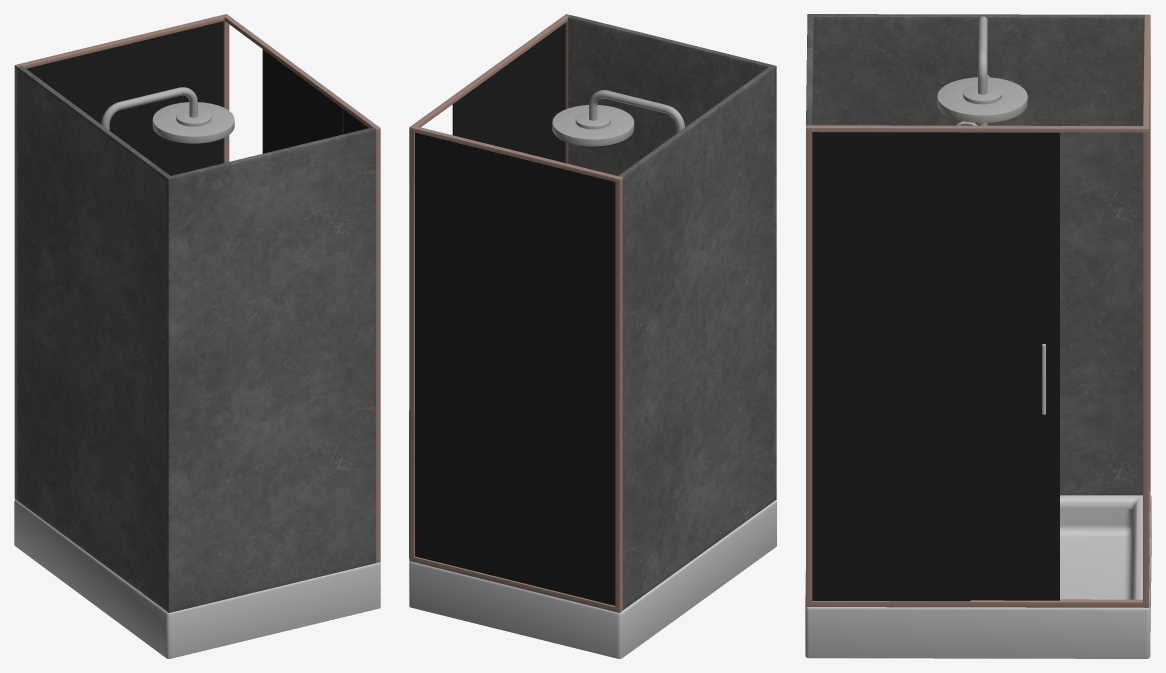
Rendered from shower.obj.
3 renders of one model, left to right at view 1: azimuth 30°, elevation 25°; view 2: azimuth 150°, elevation 25°; view 3: azimuth 270°, elevation 25°, orthographic. The views are drawn at different scales.
Visible parts, largest first — view 1: Object_6.001_Object_4.001, Object_3.002_Object_1.002, Object_2.002_Object_0.002, Object_4.002_Object_2.002; view 2: Object_3.002_Object_1.002, Object_6.001_Object_4.001, Object_2.002_Object_0.002, Object_4.002_Object_2.002; view 3: Object_3.002_Object_1.002, Object_6.001_Object_4.001, Object_2.002_Object_0.002, Object_4.002_Object_2.002.
Boxes of the visible parts, x1,y1,x2,y2 form: Object_6.001_Object_4.001: (14, 14, 380, 612); Object_3.002_Object_1.002: (26, 21, 368, 175); Object_2.002_Object_0.002: (14, 499, 380, 658); Object_4.002_Object_2.002: (101, 87, 234, 143); Object_3.002_Object_1.002: (415, 23, 615, 605); Object_6.001_Object_4.001: (409, 14, 776, 612); Object_2.002_Object_0.002: (409, 500, 776, 658); Object_4.002_Object_2.002: (552, 90, 684, 146); Object_3.002_Object_1.002: (812, 132, 1059, 601); Object_6.001_Object_4.001: (806, 14, 1150, 607); Object_2.002_Object_0.002: (805, 495, 1151, 658); Object_4.002_Object_2.002: (937, 16, 1027, 125).
Size of the model in its own units: 1.26 by 2.72 by 1.57.
4 materials, 4 textured.
